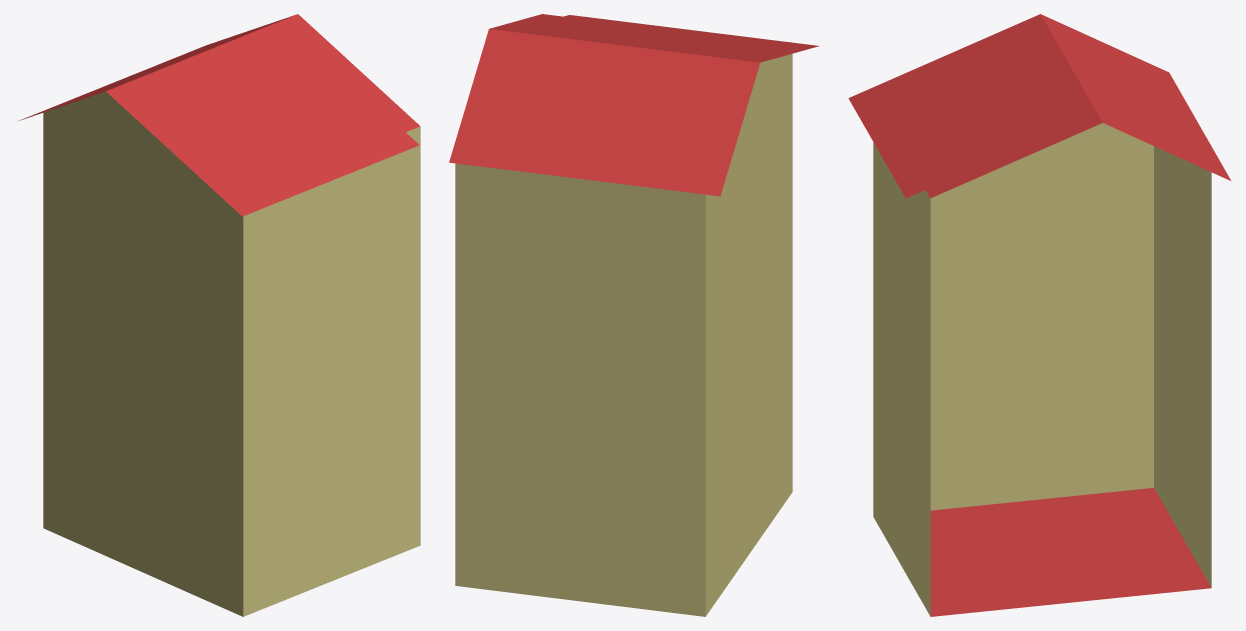
3 views of the same model, side by side, from view 1: azimuth 30°, elevation 25°; view 2: azimuth 150°, elevation 25°; view 3: azimuth 270°, elevation 25° (orthographic). The views are drawn at different scales.
Bounding box in the file's own units: 8.05 × 9.33 × 12.8.
